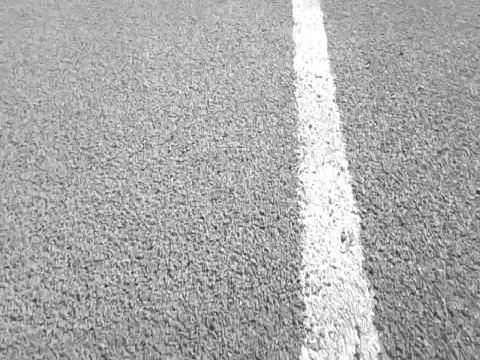Lines: (291, 0, 382, 360)
